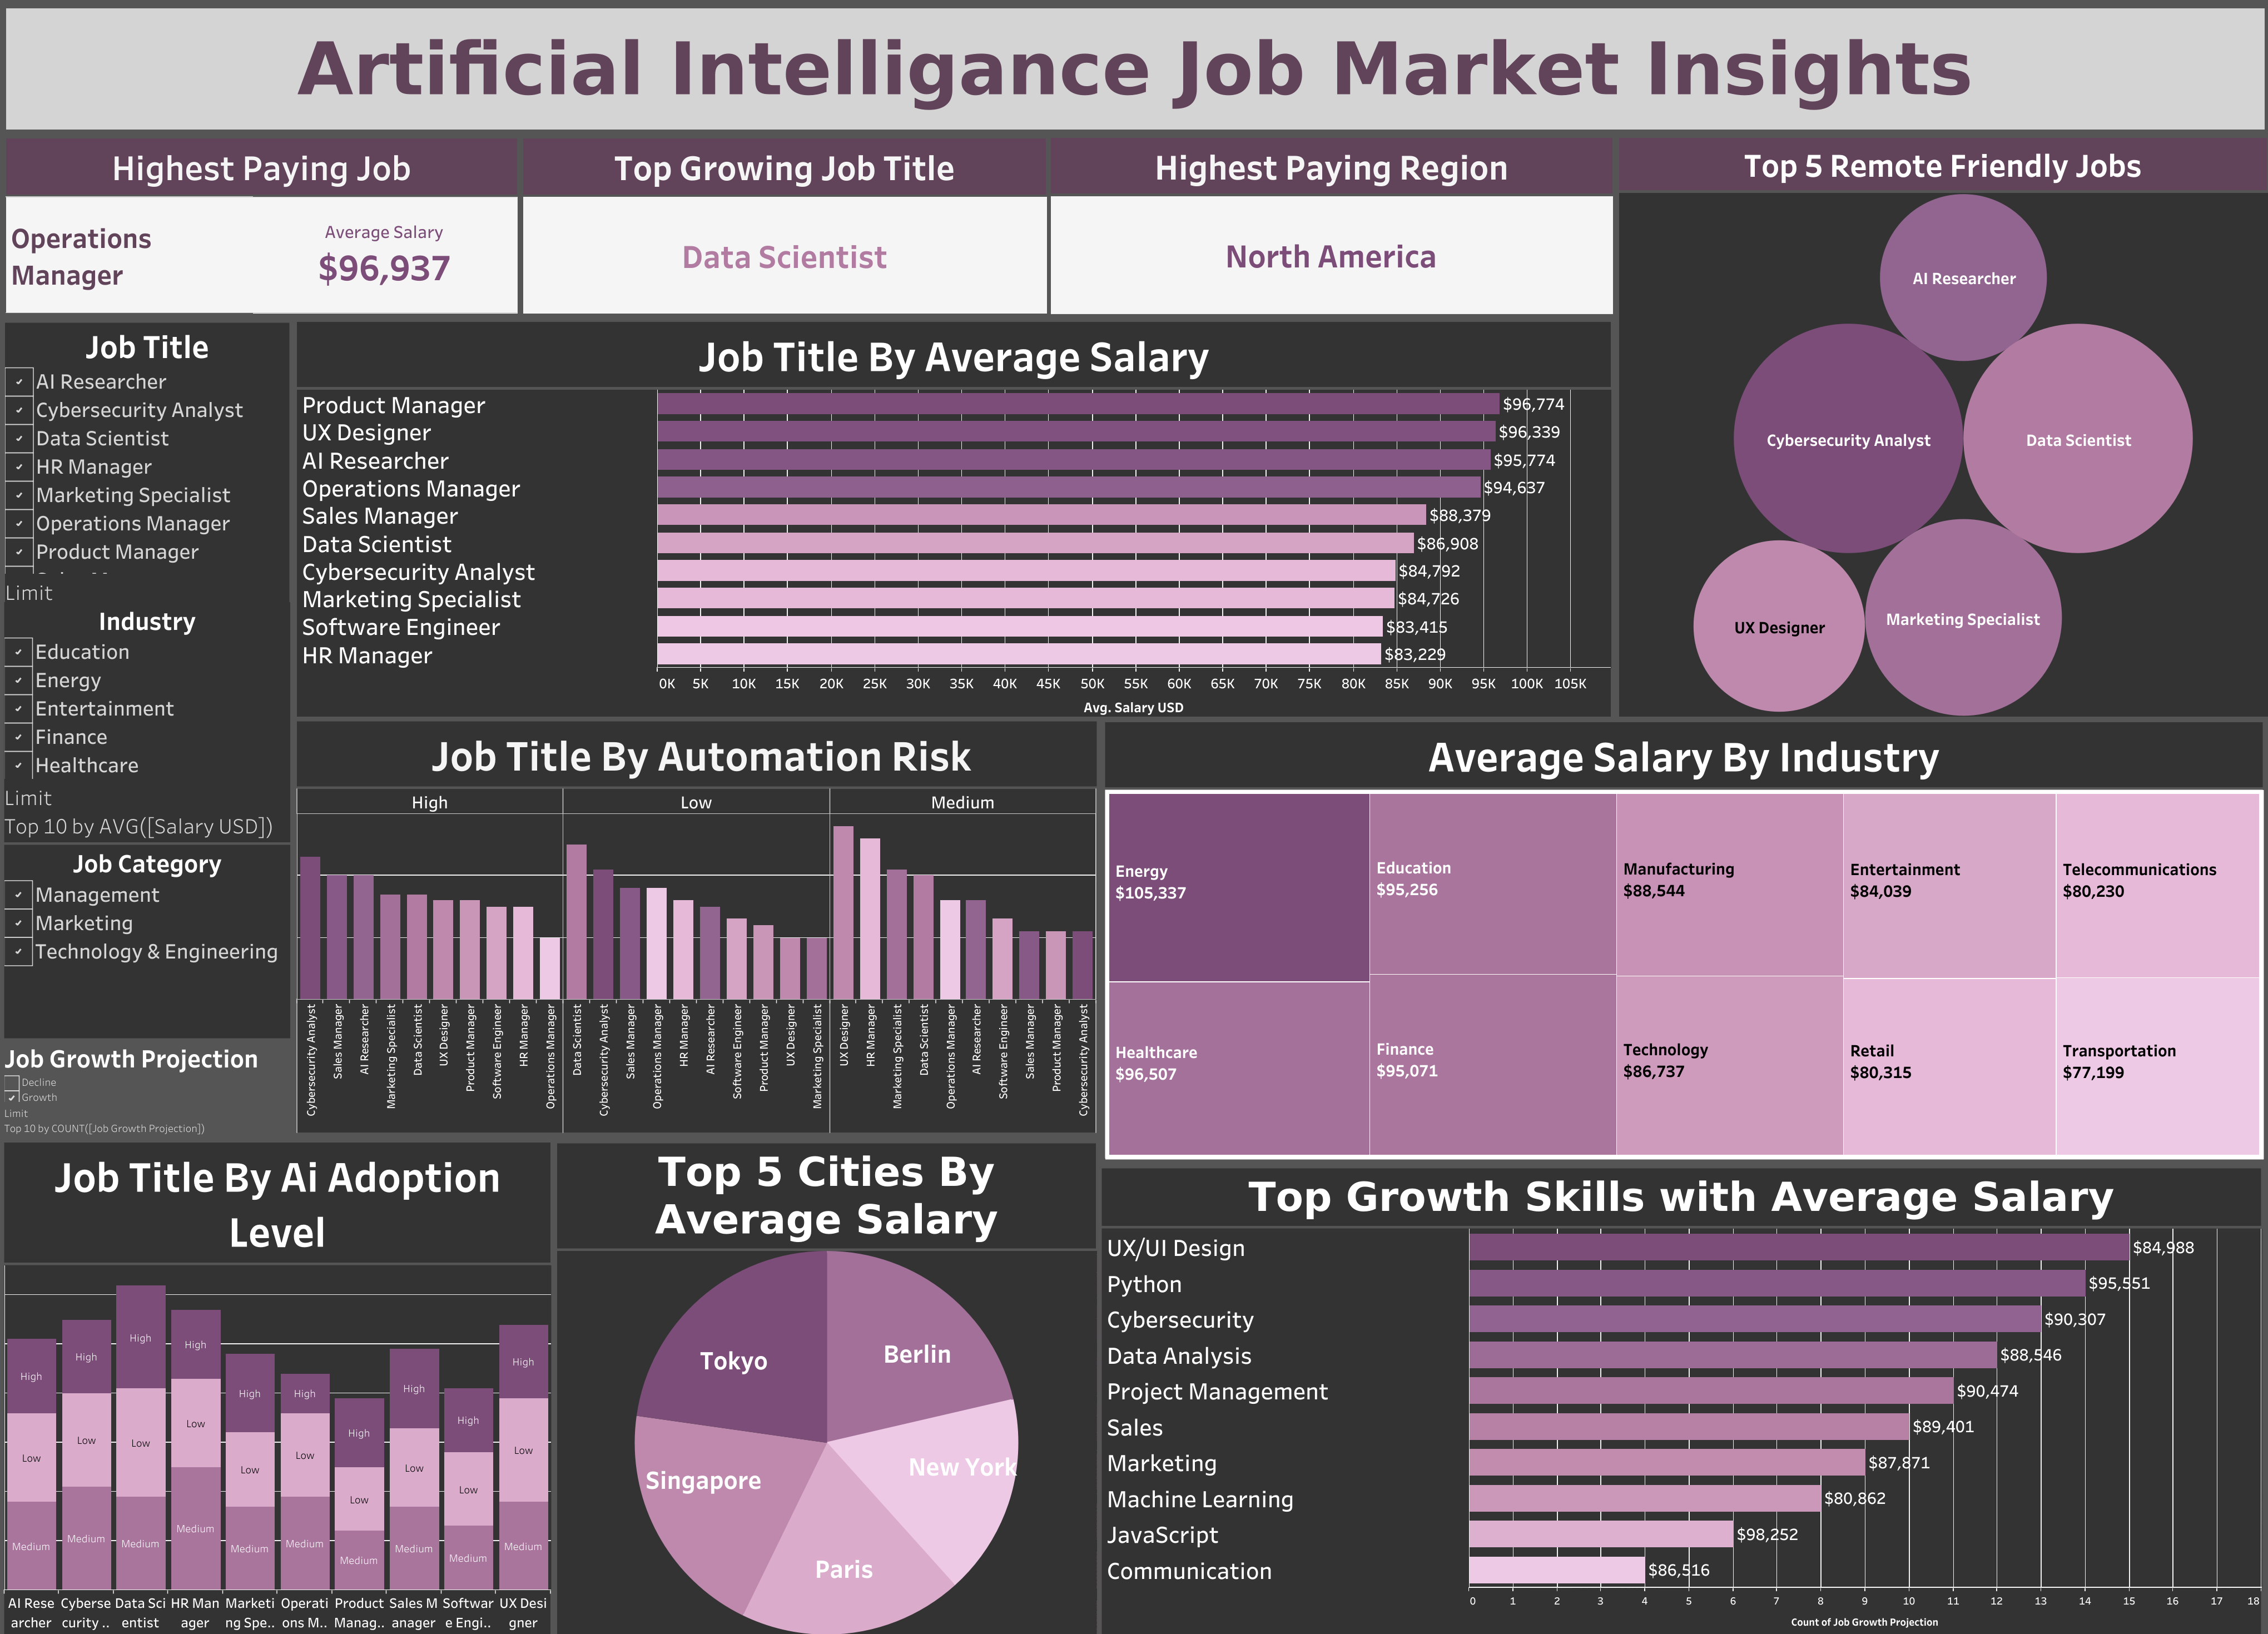

This screenshot's page, from the dashboard's own definition file:
{"tool":"tableau","page":{"name":"Dashboard 1","canvas":[1000,1000],"units":"permille","ordinal":0},"visuals":[{"type":"text","box":[2.6,5.1,995.6,74]},{"type":"worksheet","title":"Sheet 9","mark":"Automatic","box":[463.2,84.2,247.4,107.1]},{"type":"worksheet","title":"Sheet 7","mark":"Automatic","rows":["Job_Title"],"box":[2.6,84.7,225.4,107.1]},{"type":"worksheet","title":"Sheet 10","mark":"Automatic","box":[230.5,84.7,230.5,106.6]},{"type":"worksheet","title":"Sheet 1","mark":"Automatic","rows":["Job_Title"],"cols":["Salary_USD"],"box":[130.9,196.9,579,241.3]},{"type":"filter","title":"Sheet 1","param":"[federated.0s2ll8v0tmgorc14xyzzq08kerk0].[none:Job_Title:nk]","box":[2.2,197.5,125.4,192.3]},{"type":"filter","title":"Sheet 1","param":"[federated.0s2ll8v0tmgorc14xyzzq08kerk0].[none:Industry:nk]","box":[1.8,368.4,126.1,146.9]},{"type":"worksheet","title":"Sheet 3","mark":"Automatic","rows":["Calculation_708472579790929922"],"cols":["Automation_Risk","Job_Title"],"box":[130.9,441.3,352.6,252]},{"type":"worksheet","title":"Sheet 2","mark":"Automatic","box":[487.1,441.8,510.3,267.4]},{"type":"filter","title":"Sheet 1","param":"[federated.0s2ll8v0tmgorc14xyzzq08kerk0].[none:Job_Category:nk]","box":[1.8,516.8,126.1,118.4]},{"type":"filter","title":"Sheet 6","param":"[federated.0s2ll8v0tmgorc14xyzzq08kerk0].[none:Job_Growth_Projection:nk]","box":[1.8,636.2,126.1,60.2]},{"type":"worksheet","title":"Sheet 11","mark":"Automatic","rows":["AI_Adoption_Level"],"cols":["Job_Title"],"box":[1.8,699,240.8,301.5]},{"type":"worksheet","title":"Sheet 4","mark":"Pie","box":[245.6,699.5,237.5,300.5]},{"type":"worksheet","title":"Sheet 6","mark":"Bar","rows":["Required_Skills"],"cols":["Job_Growth_Projection"],"box":[485.7,714.8,511,285.2]}]}

Visuals, with their boxes on the dashboard's canvas, which has no fixed pixel size, in thousandths of its width and height (x1, y1, x2, y2). These are canvas units, not pixel positions in the 2268x1634 screenshot, which may show the page scaled, cropped or inside an application window:
text: <bbox>3, 5, 998, 79</bbox>
"Sheet 9" worksheet: <bbox>463, 84, 711, 191</bbox>
"Sheet 7" worksheet: <bbox>3, 85, 228, 192</bbox>
"Sheet 10" worksheet: <bbox>230, 85, 461, 191</bbox>
"Sheet 1" worksheet: <bbox>131, 197, 710, 438</bbox>
"Sheet 1" filter: <bbox>2, 198, 128, 390</bbox>
"Sheet 1" filter: <bbox>2, 368, 128, 515</bbox>
"Sheet 3" worksheet: <bbox>131, 441, 484, 693</bbox>
"Sheet 2" worksheet: <bbox>487, 442, 997, 709</bbox>
"Sheet 1" filter: <bbox>2, 517, 128, 635</bbox>
"Sheet 6" filter: <bbox>2, 636, 128, 696</bbox>
"Sheet 11" worksheet: <bbox>2, 699, 243, 1000</bbox>
"Sheet 4" worksheet (Pie marks): <bbox>246, 700, 483, 1000</bbox>
"Sheet 6" worksheet (Bar marks): <bbox>486, 715, 997, 1000</bbox>
